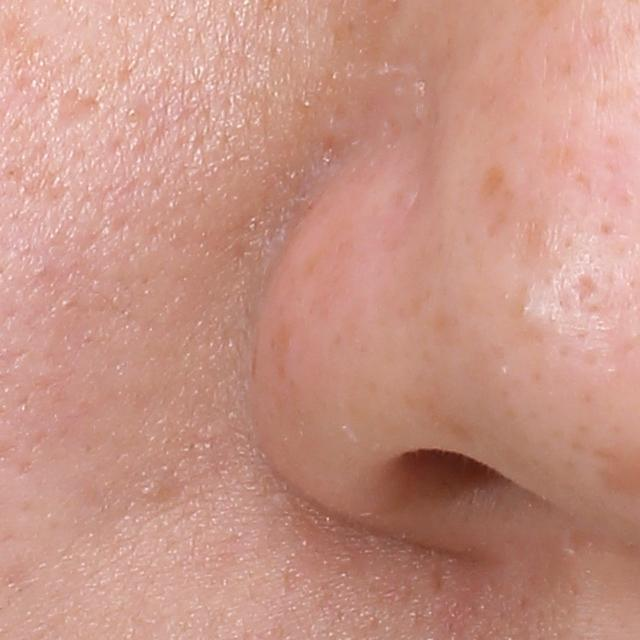atrophic_scar: (58, 88, 98, 132), (568, 270, 598, 304)
melasma: (476, 157, 512, 202)
